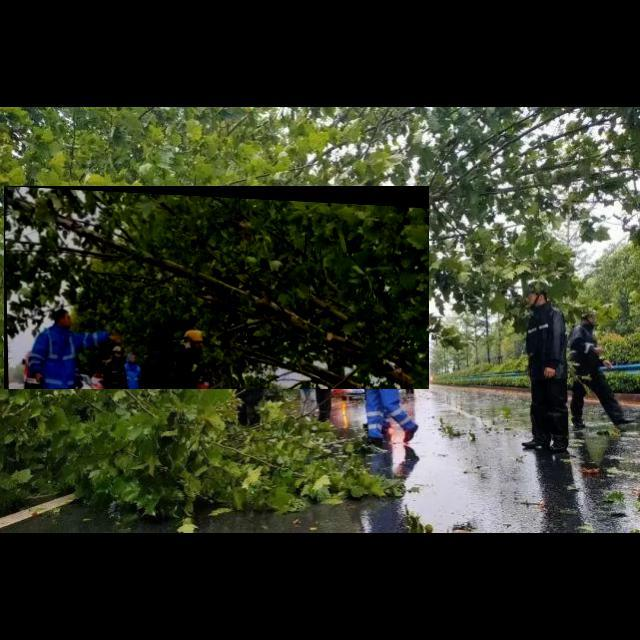fallen_tree: (4, 186, 430, 390)
